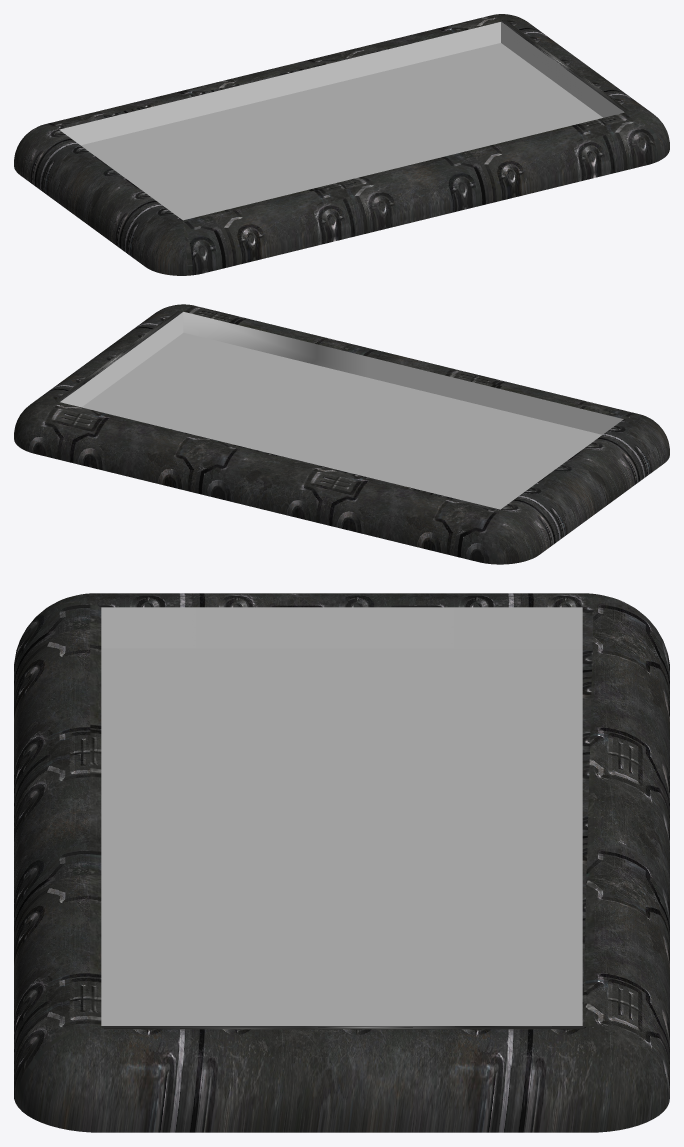
The model's file is boton.fbx.
3 renders of one model, top to bottom at view 1: azimuth 30°, elevation 25°; view 2: azimuth 150°, elevation 25°; view 3: azimuth 270°, elevation 25°, orthographic. The views are drawn at different scales.
Parts seen in each view (by area): view 1: Model; view 2: Model; view 3: Model.
Part boxes in pixels (x1,y1,x2,y2): Model: (14,14,669,275); Model: (14,304,669,564); Model: (14,593,669,1132).
Size of the model in its own units: 1.81 by 0.1221 by 1.02.
